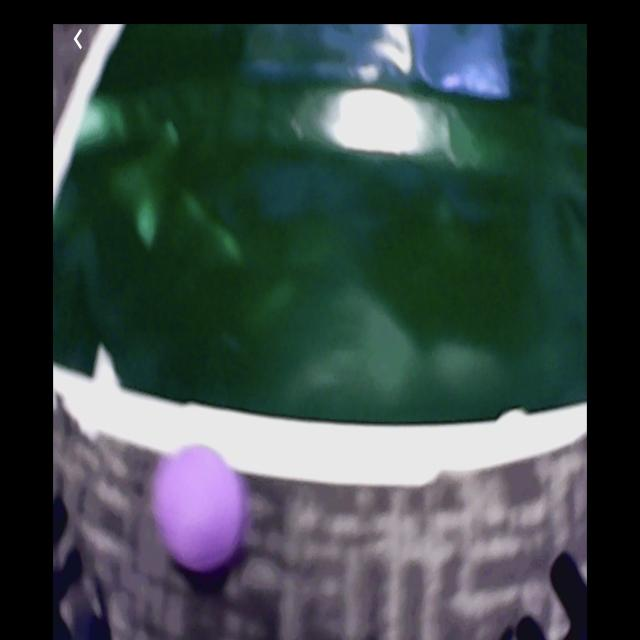ball: (156, 445, 242, 578)
